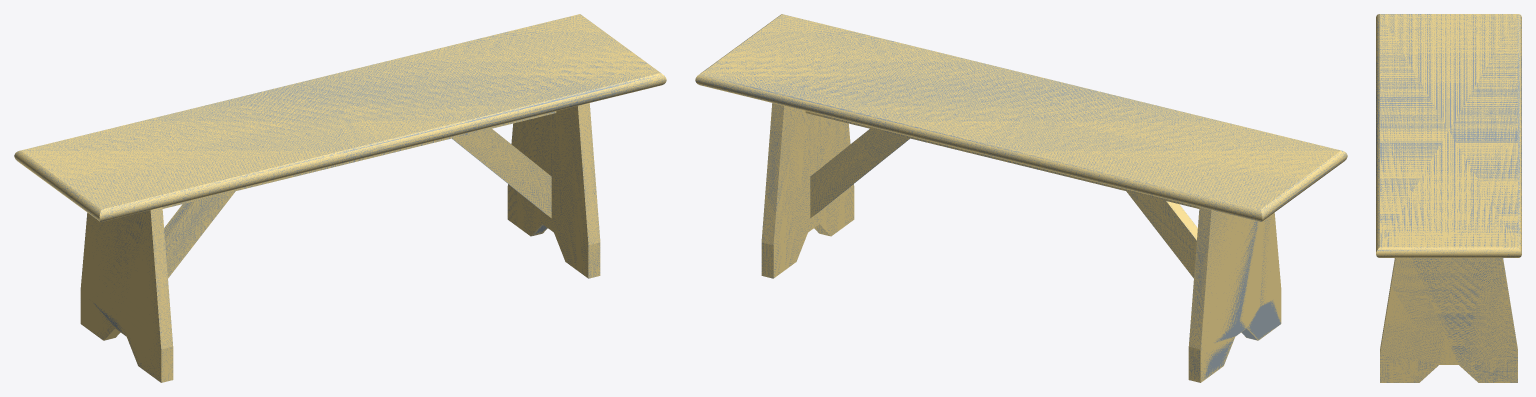
The picture shows the model from 3 angles, left to right: view 1: azimuth 30°, elevation 25°; view 2: azimuth 150°, elevation 25°; view 3: azimuth 270°, elevation 25°; orthographic projection. The views are drawn at different scales.
Parts seen in each view (by area): view 1: Bench1; view 2: Bench1; view 3: Bench1.
Boxes of the visible parts, bbox=[...] form: Bench1: bbox=[14, 14, 666, 382]; Bench1: bbox=[695, 14, 1347, 382]; Bench1: bbox=[1376, 14, 1521, 382].
Size of the model in its own units: 142 by 45 by 37.
